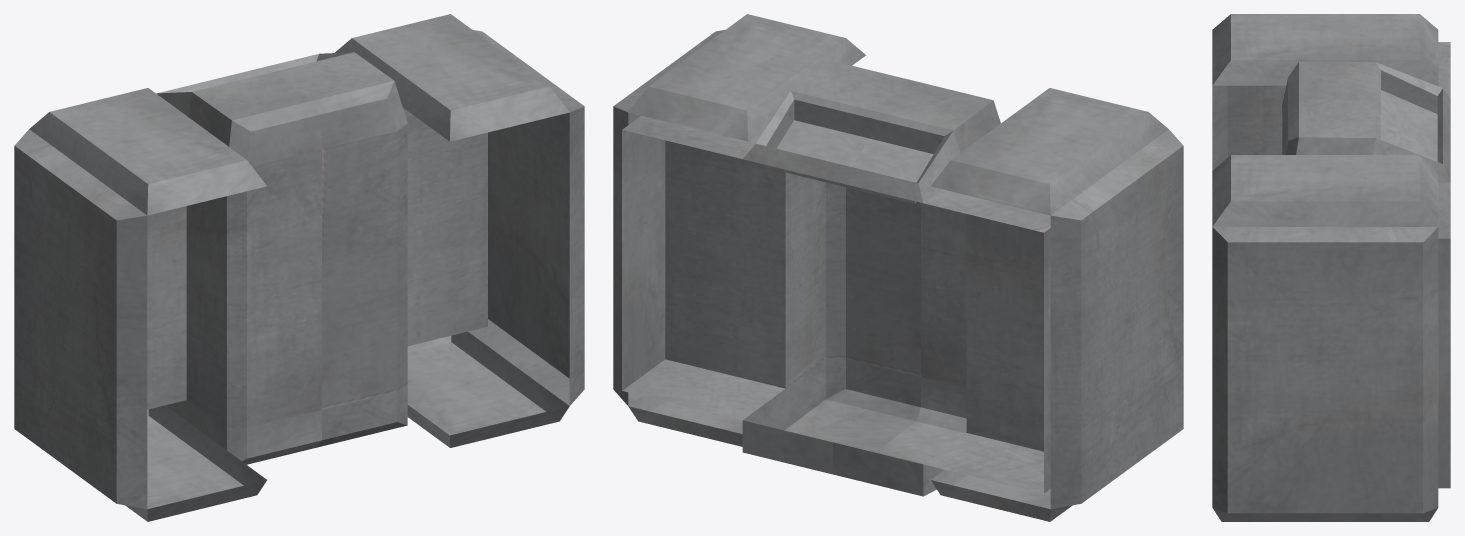
File: LowerBody.FBX
3 views of the same model, side by side, from view 1: azimuth 30°, elevation 25°; view 2: azimuth 150°, elevation 25°; view 3: azimuth 270°, elevation 25° (orthographic). The views are drawn at different scales.
Parts seen in each view (by area): view 1: Object003; view 2: Object003; view 3: Object003.
Part boxes in pixels (x1=…): Object003: x1=14, y1=14, x2=584, y2=521; Object003: x1=613, y1=14, x2=1183, y2=521; Object003: x1=1212, y1=14, x2=1450, y2=521.
Bounding box in the file's own units: 7.45 × 5.25 × 3.44.
